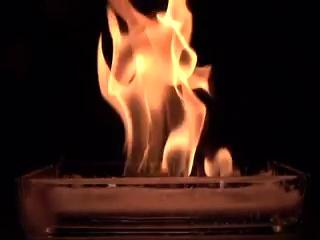Fire: (139, 56, 197, 182)
